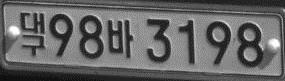1: (177, 19, 203, 63)
3: (146, 18, 172, 62)
8: (237, 22, 264, 67), (78, 14, 104, 59)
9: (49, 12, 74, 57), (206, 20, 231, 64)
대구_V: (21, 12, 45, 57)
바: (107, 19, 134, 58)
